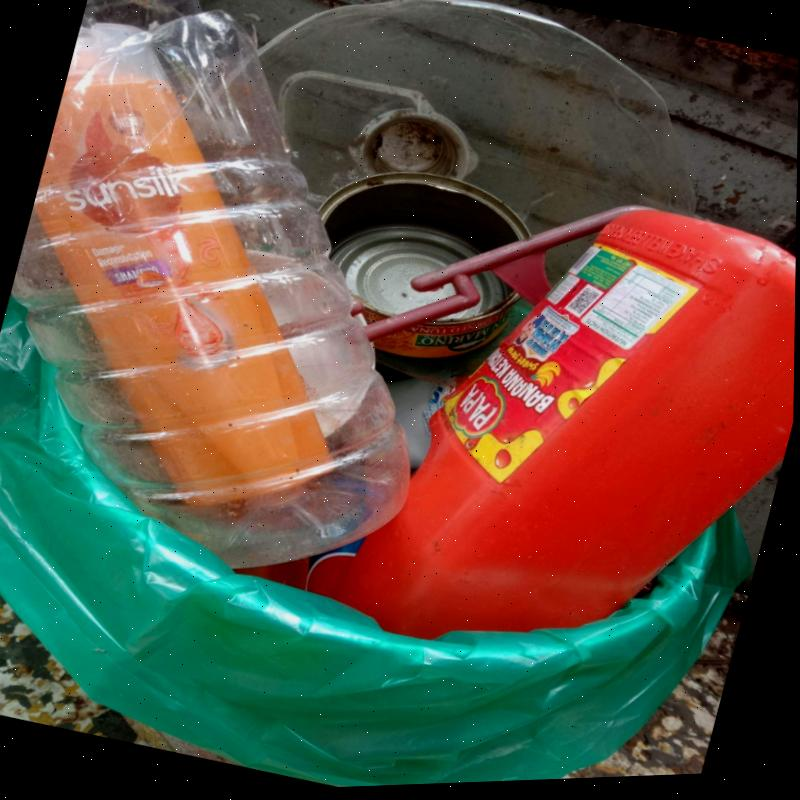aluminum: (317, 172, 535, 358)
plastic bottle: (235, 213, 796, 639), (14, 0, 421, 576), (39, 24, 327, 511)
